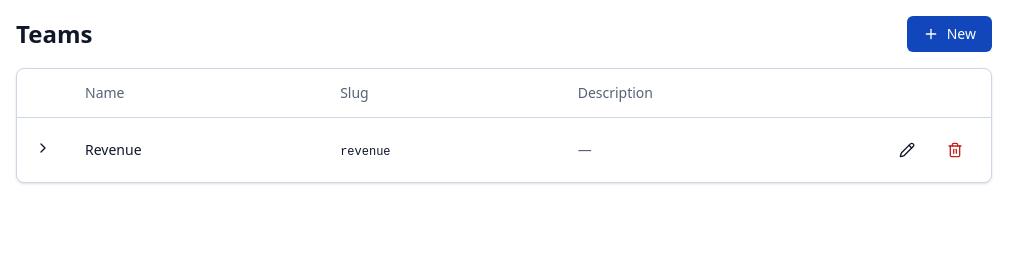
Test: Org pages › teams page expands a read-only roster
Click the button named "show members". click: {"x": 43, "y": 148}
box: left=33, top=138, right=53, bottom=158
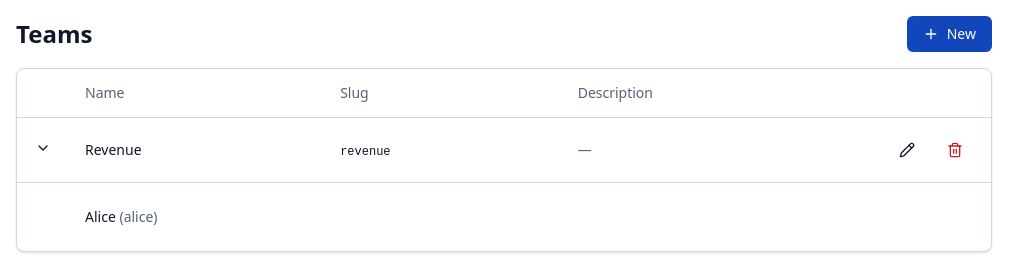
Result: the list item "Alice (alice)" is shown at left=85, top=206, right=158, bottom=226
